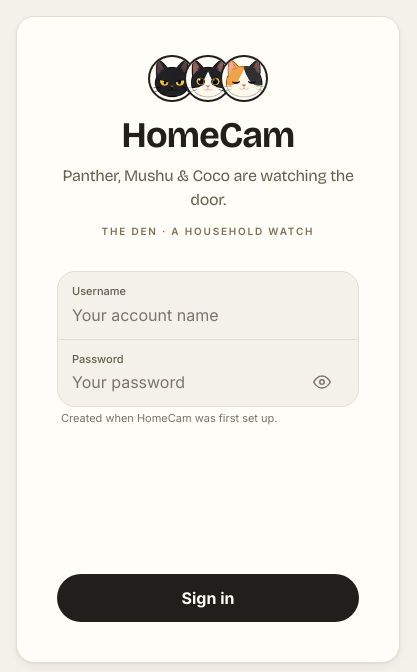
Test case: Login page › given the show-password button is clicked, then the password input type flips text/password (iter-356.1a)
Note: act — click the eye toggle.
What coordinates should you click on to do the following:
click the button named "show password"
I would click on:
 (322, 382)
Its box is [300,360,344,404].
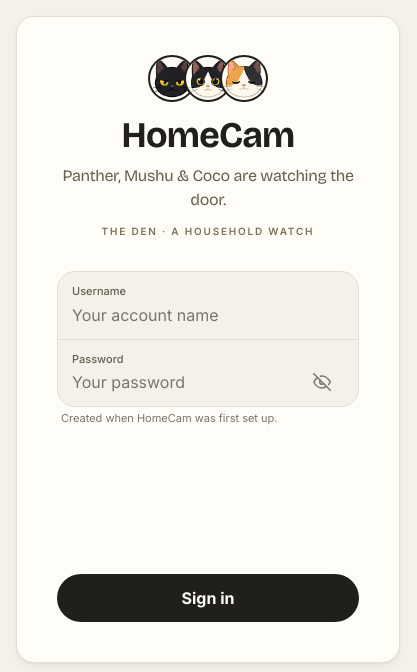
Expected: the button named "hide password" is shown, [300,360,344,404]
